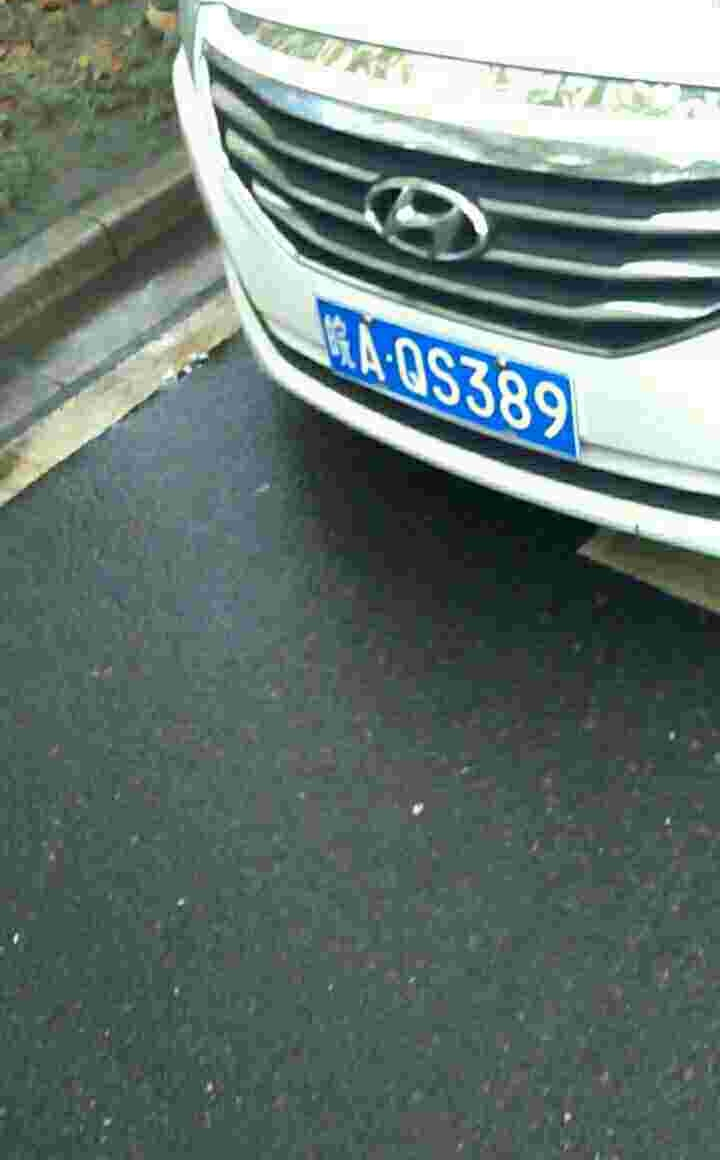license_plate: (313, 287, 588, 467)
